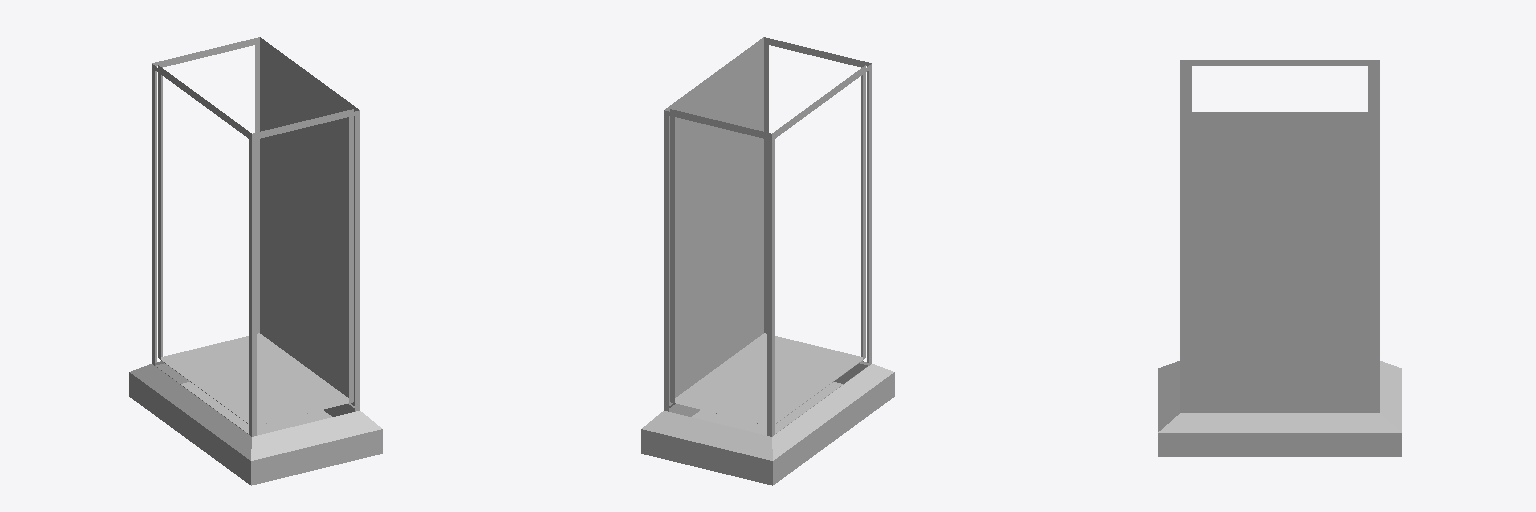
Rendered from leftglass1.obj.
3 views of the same model, side by side, from view 1: azimuth 30°, elevation 25°; view 2: azimuth 150°, elevation 25°; view 3: azimuth 270°, elevation 25° (orthographic).
Visible parts, largest first — view 1: 立方体.039; view 2: 立方体.039; view 3: 立方体.039.
Part boxes in pixels (x1,y1,x2,y2): 立方体.039: (129,37,382,485); 立方体.039: (641,37,894,485); 立方体.039: (1158,60,1401,456).
Bounding box in the file's own units: 0.4099 × 1.01 × 0.6567.